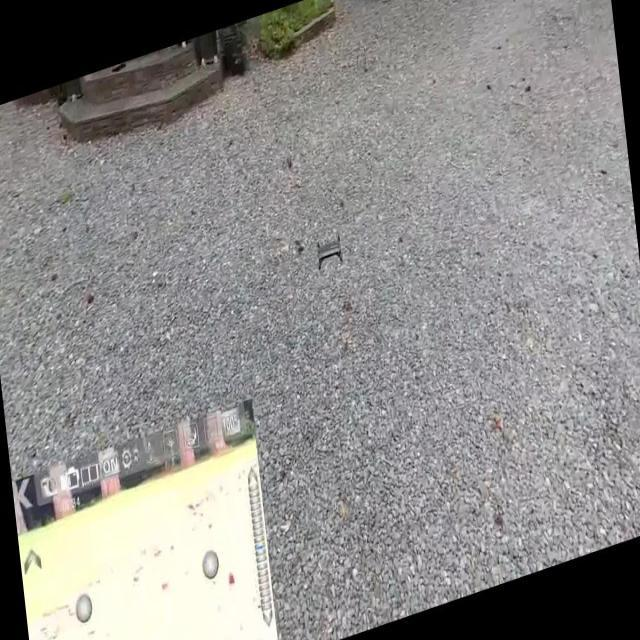drone: (310, 220, 347, 284)
